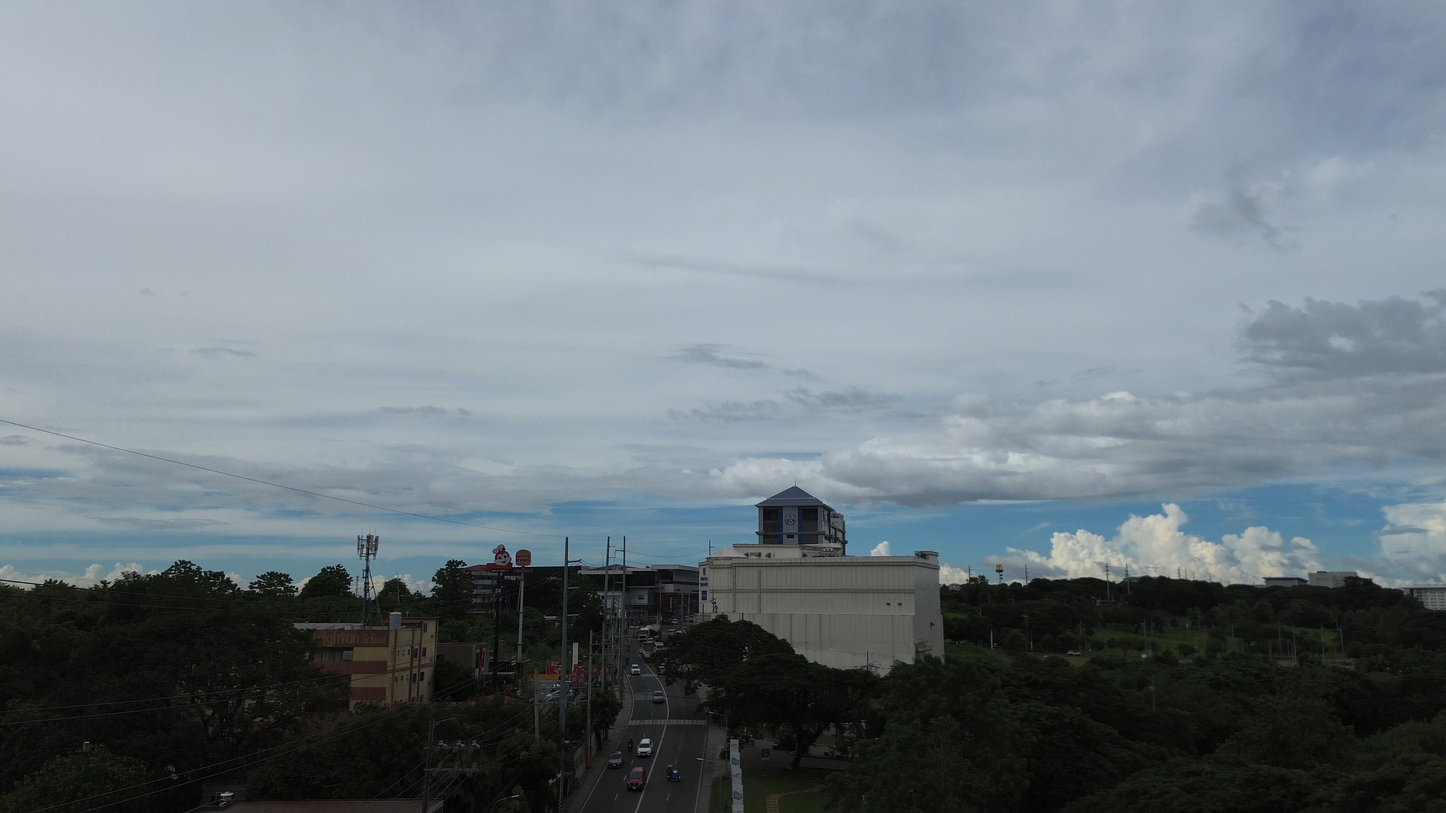car: (607, 752, 623, 768), (652, 690, 665, 703), (1065, 650, 1081, 656)
vehicle: (627, 767, 645, 790), (636, 738, 653, 757), (667, 766, 680, 781), (630, 663, 641, 674)
